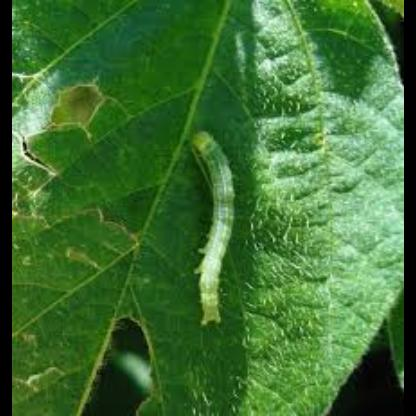agujero: (65, 304, 164, 416), (48, 76, 112, 132)
oruga: (190, 124, 242, 327)
